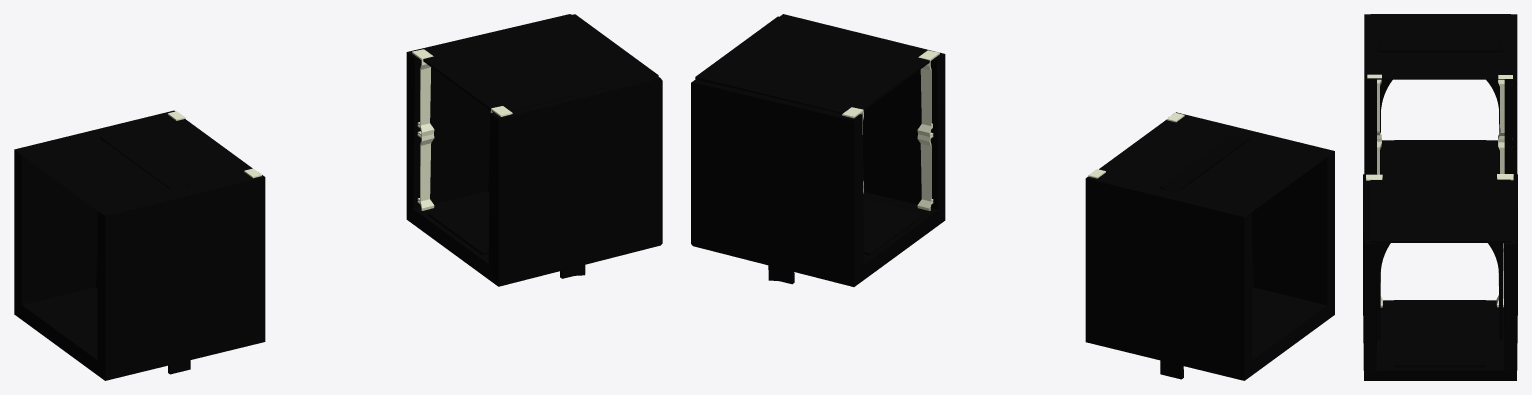
3 views of the same model, side by side, from view 1: azimuth 30°, elevation 25°; view 2: azimuth 150°, elevation 25°; view 3: azimuth 270°, elevation 25° (orthographic). The views are drawn at different scales.
Parts seen in each view (by area): view 1: 立方体.004, 立方体.006; view 2: 立方体.004, 立方体.006; view 3: 立方体.004, 立方体.006.
Boxes of the visible parts, x1,y1,x2,y2 form: 立方体.004: (406,14,662,286); 立方体.006: (14,110,265,380); 立方体.004: (691,14,945,286); 立方体.006: (1085,112,1334,380); 立方体.004: (1363,174,1517,380); 立方体.006: (1364,14,1517,175).
Bounding box in the file's own units: 6997 × 2290 × 1990.
